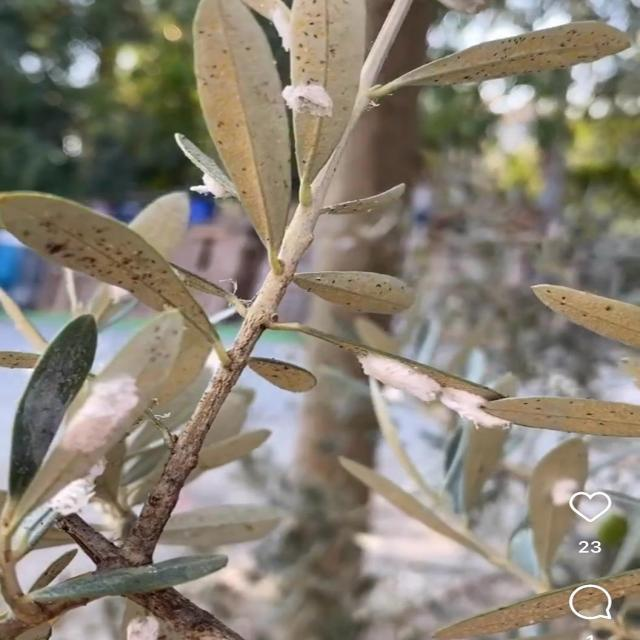Psyllid: (20, 310, 198, 503), (349, 346, 519, 429), (40, 460, 106, 524), (176, 133, 237, 200), (282, 82, 332, 116)
